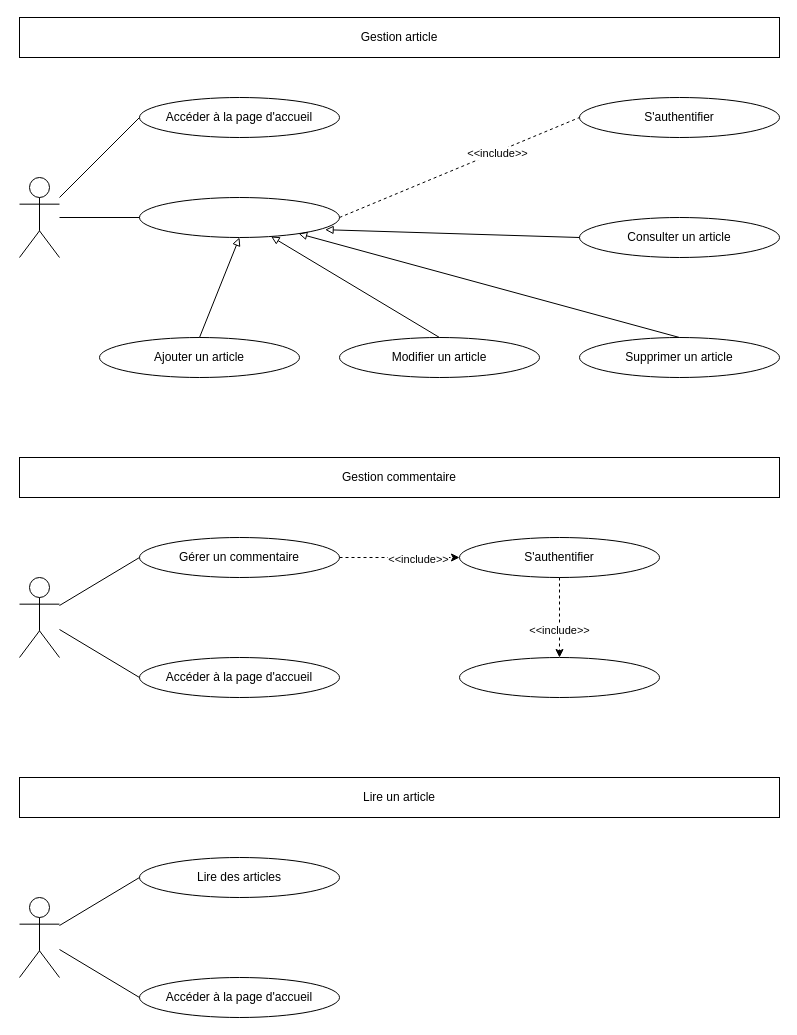
The diagram is 797 pixels wide and 1035 high, and some of its shapes have lost their labels. Each missing label, with the centre of its shape:
"Admin" belongs at pixel 39 217.
"Gérer un article" belongs at pixel 239 217.
"Membre" belongs at pixel 39 617.
"S'inscrire" belongs at pixel 559 677.
"Visiteur" belongs at pixel 39 937.
